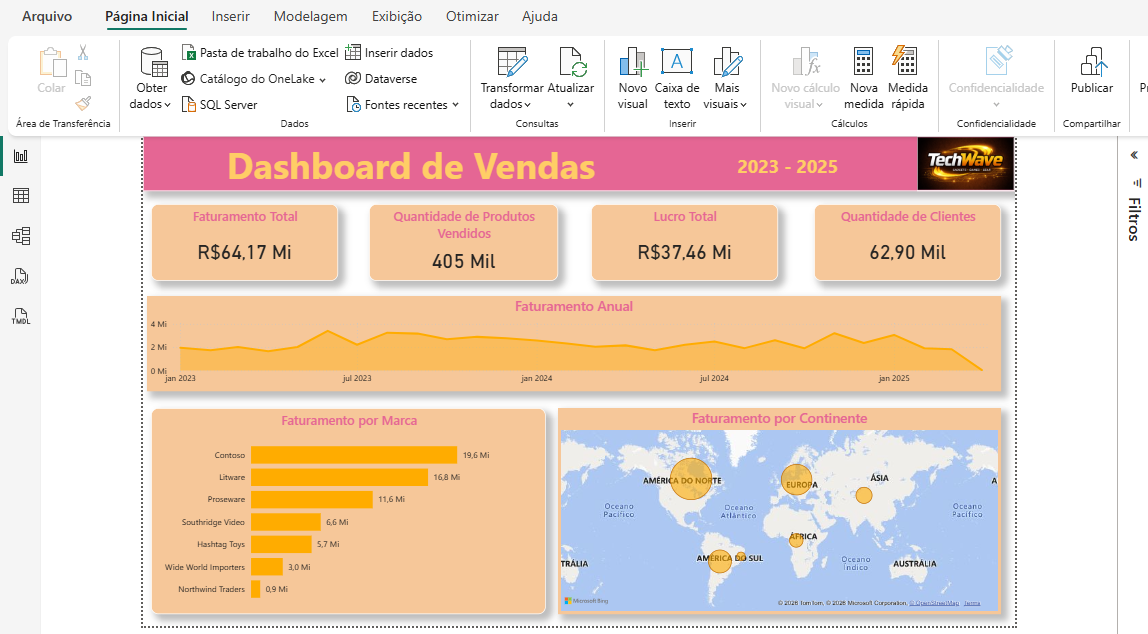

Layout of this report page (visuals, bound fields, positions):
{"tool":"powerbi","page":{"name":"Página 1","canvas":[1280,720],"ordinal":0},"visuals":[{"type":"card","title":"Faturamento Total","fields":{"Values":["Sum(Vendas.Faturamento)"]},"box":[11.8,99.9,274.8,113.1],"z":0},{"type":"actionButton","box":[0,0,100,40],"z":1000},{"type":"textbox","box":[0,0,1279.8,80.8],"z":2000},{"type":"card","title":"Quantidade de Produtos Vendidos","fields":{"Values":["Sum(Vendas.Qtd. Vendida)"]},"box":[332.1,99.9,277.7,113.1],"z":3000},{"type":"card","title":"Lucro Total","fields":{"Values":["Sum(Vendas.Lucro Venda)"]},"box":[658.3,99.9,274.8,113.1],"z":4000},{"type":"card","title":"Quantidade de Clientes","fields":{"Values":["Count(Vendas.Codigo Cliente)"]},"box":[986,99.9,274.8,113.1],"z":5000},{"type":"barChart","title":"Faturamento por Marca","fields":{"Category":["Vendas.Marca"],"Y":["Sum(Vendas.Faturamento)"]},"box":[11.8,399.7,580.4,302.7],"z":6000},{"type":"areaChart","title":"Faturamento Anual","fields":{"Y":["Sum(Vendas.Faturamento)"],"Category":["Vendas.Data da Venda.Variation.Hierarquia de datas.Ano","Vendas.Data da Venda.Variation.Hierarquia de datas.Mês"]},"box":[5.9,235.1,1254.9,139.6],"z":7000},{"type":"map","title":"Faturamento por Continente","fields":{"Category":["Vendas.Continente"],"Size":["Sum(Vendas.Faturamento)"]},"box":[609.8,399.7,650.9,302.7],"z":8000},{"type":"image","box":[1137.3,0,142.5,80.8],"z":8001},{"type":"textbox","box":[868.4,20.6,179.3,45.6],"z":8002}]}

Visuals, with their boxes on the page's 1280x720 design canvas (x1, y1, x2, y2). These are canvas units, not pixel positions in the 1148x634 screenshot, which may show the page scaled, cropped or inside an application window:
"Faturamento Total" card: x1=12, y1=100, x2=287, y2=213
actionButton: x1=0, y1=0, x2=100, y2=40
textbox: x1=0, y1=0, x2=1280, y2=81
"Quantidade de Produtos Vendidos" card: x1=332, y1=100, x2=610, y2=213
"Lucro Total" card: x1=658, y1=100, x2=933, y2=213
"Quantidade de Clientes" card: x1=986, y1=100, x2=1261, y2=213
"Faturamento por Marca" barChart: x1=12, y1=400, x2=592, y2=702
"Faturamento Anual" areaChart: x1=6, y1=235, x2=1261, y2=375
"Faturamento por Continente" map: x1=610, y1=400, x2=1261, y2=702
image: x1=1137, y1=0, x2=1280, y2=81
textbox: x1=868, y1=21, x2=1048, y2=66
